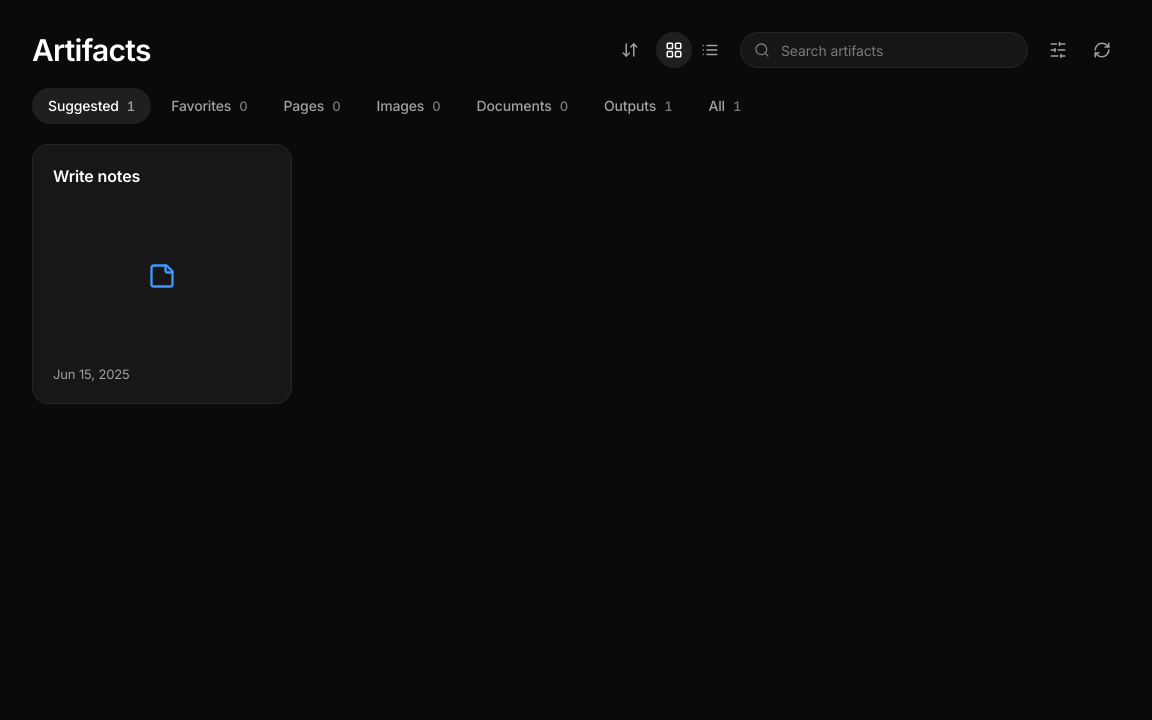
it: VisualizationView — runs without an artifact › lists a page-less run as a run row and opens it on Preview as a page, Files one tab away
What coordinates should you click on to do the following:
click the button with test id "visualization-run-row"
I would click on:
 (162, 274)
Its box is [32,144,292,404].
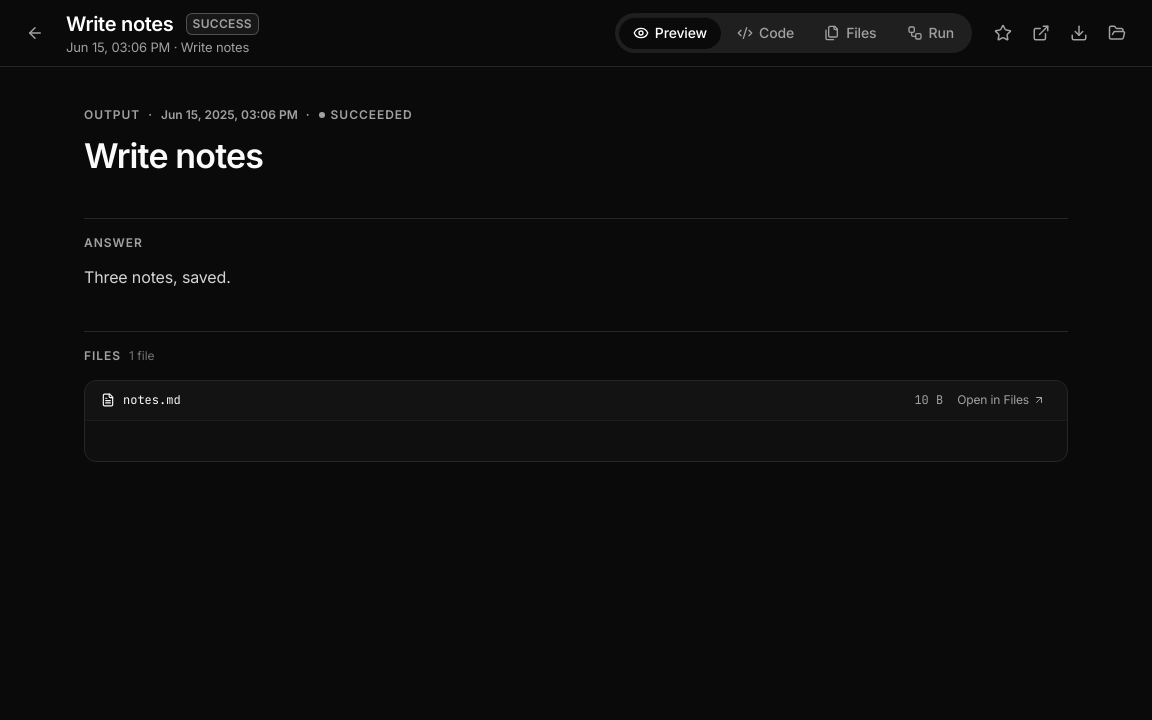
Now the tab with test id "visualization-tab-files" is shown
Now the tab with test id "visualization-tab-run" is shown, box [892,17,968,49]
Now the heading with test id "output-preview-title" reads "Write notes", box [84,135,263,176]
What coordinates should you click on to do the following:
click the tab with test id "visualization-tab-files"
I would click on:
 (850, 33)
Its box is [810,17,890,49].
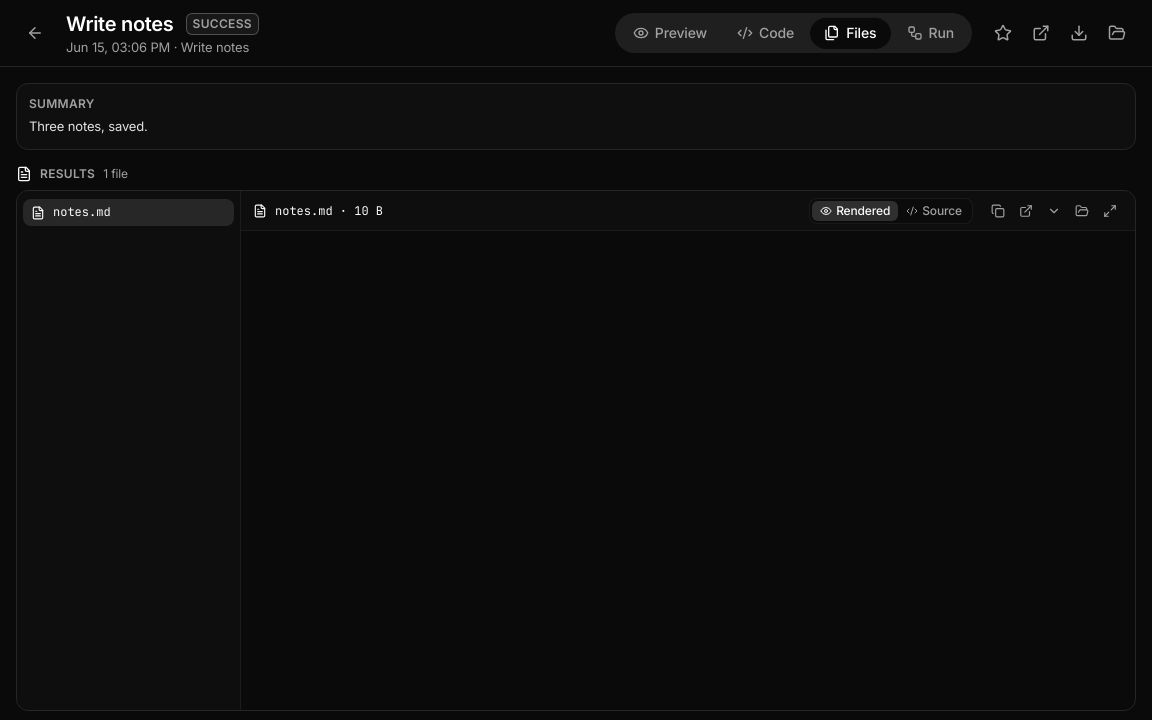
Now the text with test id "run-status-badge" reads "success", box [192,16,252,31]
Now the element with test id "run-notes" is shown, box [16,83,1136,150]
Now the element with test id "artifact-path" reads "notes.md", box [53,204,111,220]
